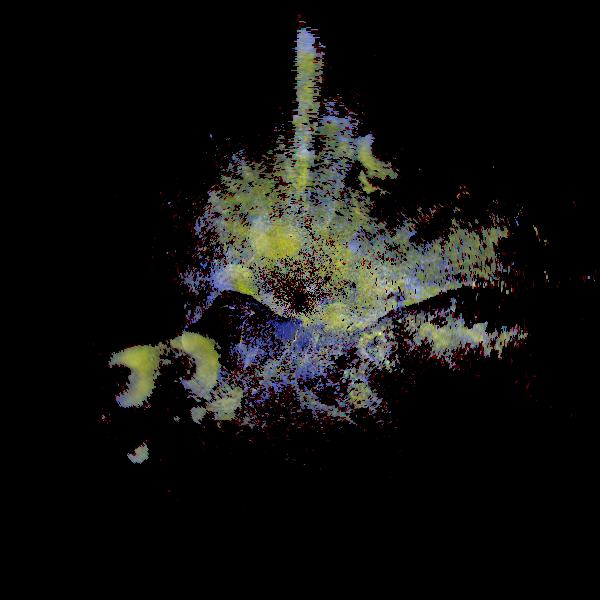roost: (150, 331, 222, 403), (89, 345, 158, 414), (191, 361, 248, 418), (357, 129, 402, 174), (119, 433, 152, 466)
